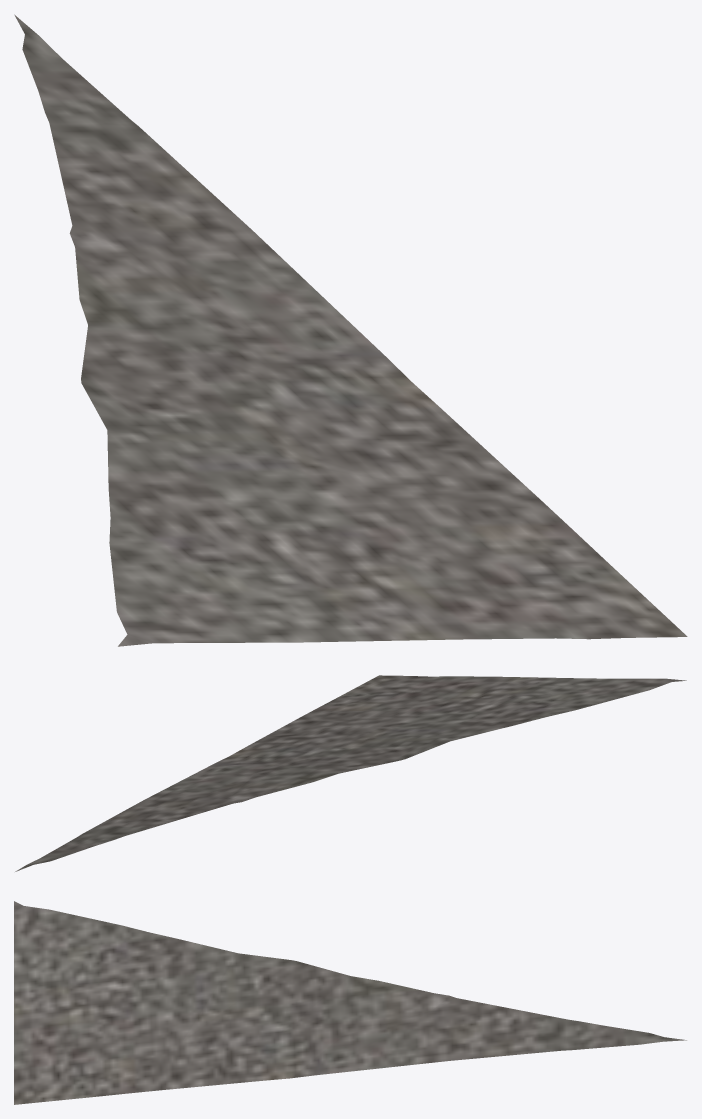
3 renders of one model, top to bottom at view 1: azimuth 30°, elevation 25°; view 2: azimuth 150°, elevation 25°; view 3: azimuth 270°, elevation 25°, orthographic. The views are drawn at different scales.
Size of the model in its own units: 0.5335 by 0.1156 by 1.09.
Materials: 1 (1 with a texture image).
